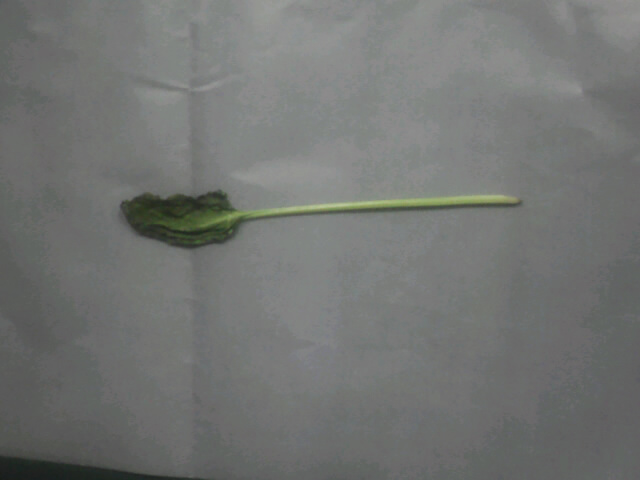yellow: (107, 173, 527, 255)
